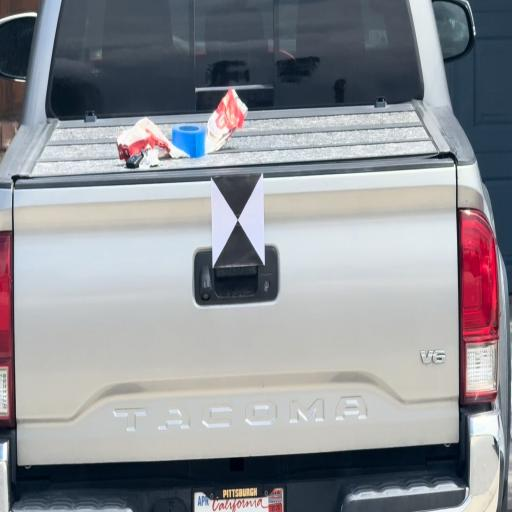target: (212, 174, 265, 267)
